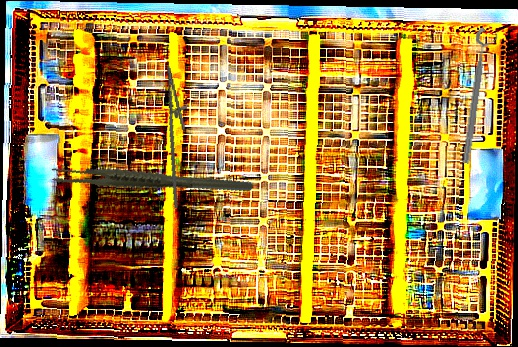Fixation Ring: (458, 27, 500, 166)
Needle Holder: (149, 63, 206, 209)
Tissue Forceps: (48, 132, 255, 230)
